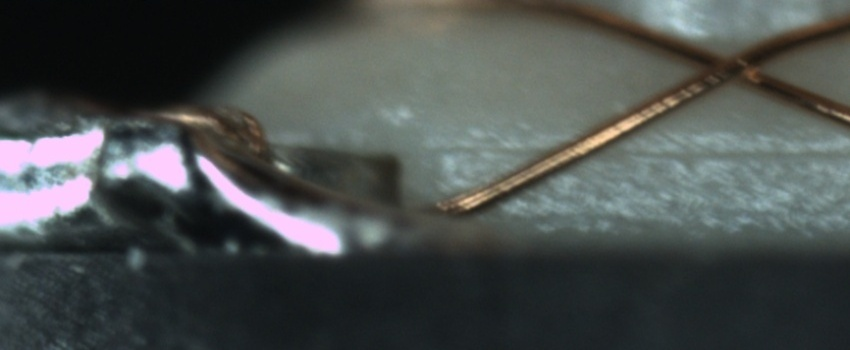CL: (682, 32, 781, 93)
DL: (429, 125, 849, 180)
TE: (150, 102, 268, 146)
